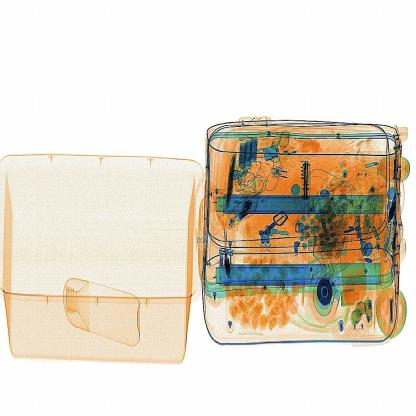scissors: (296, 150, 318, 212)
